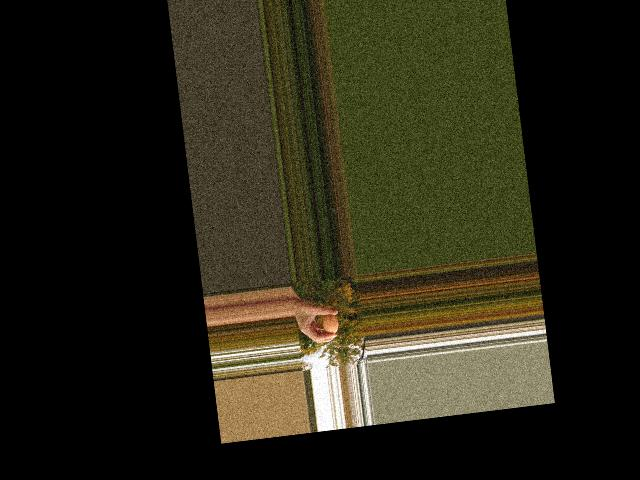egg: (322, 313, 339, 335)
